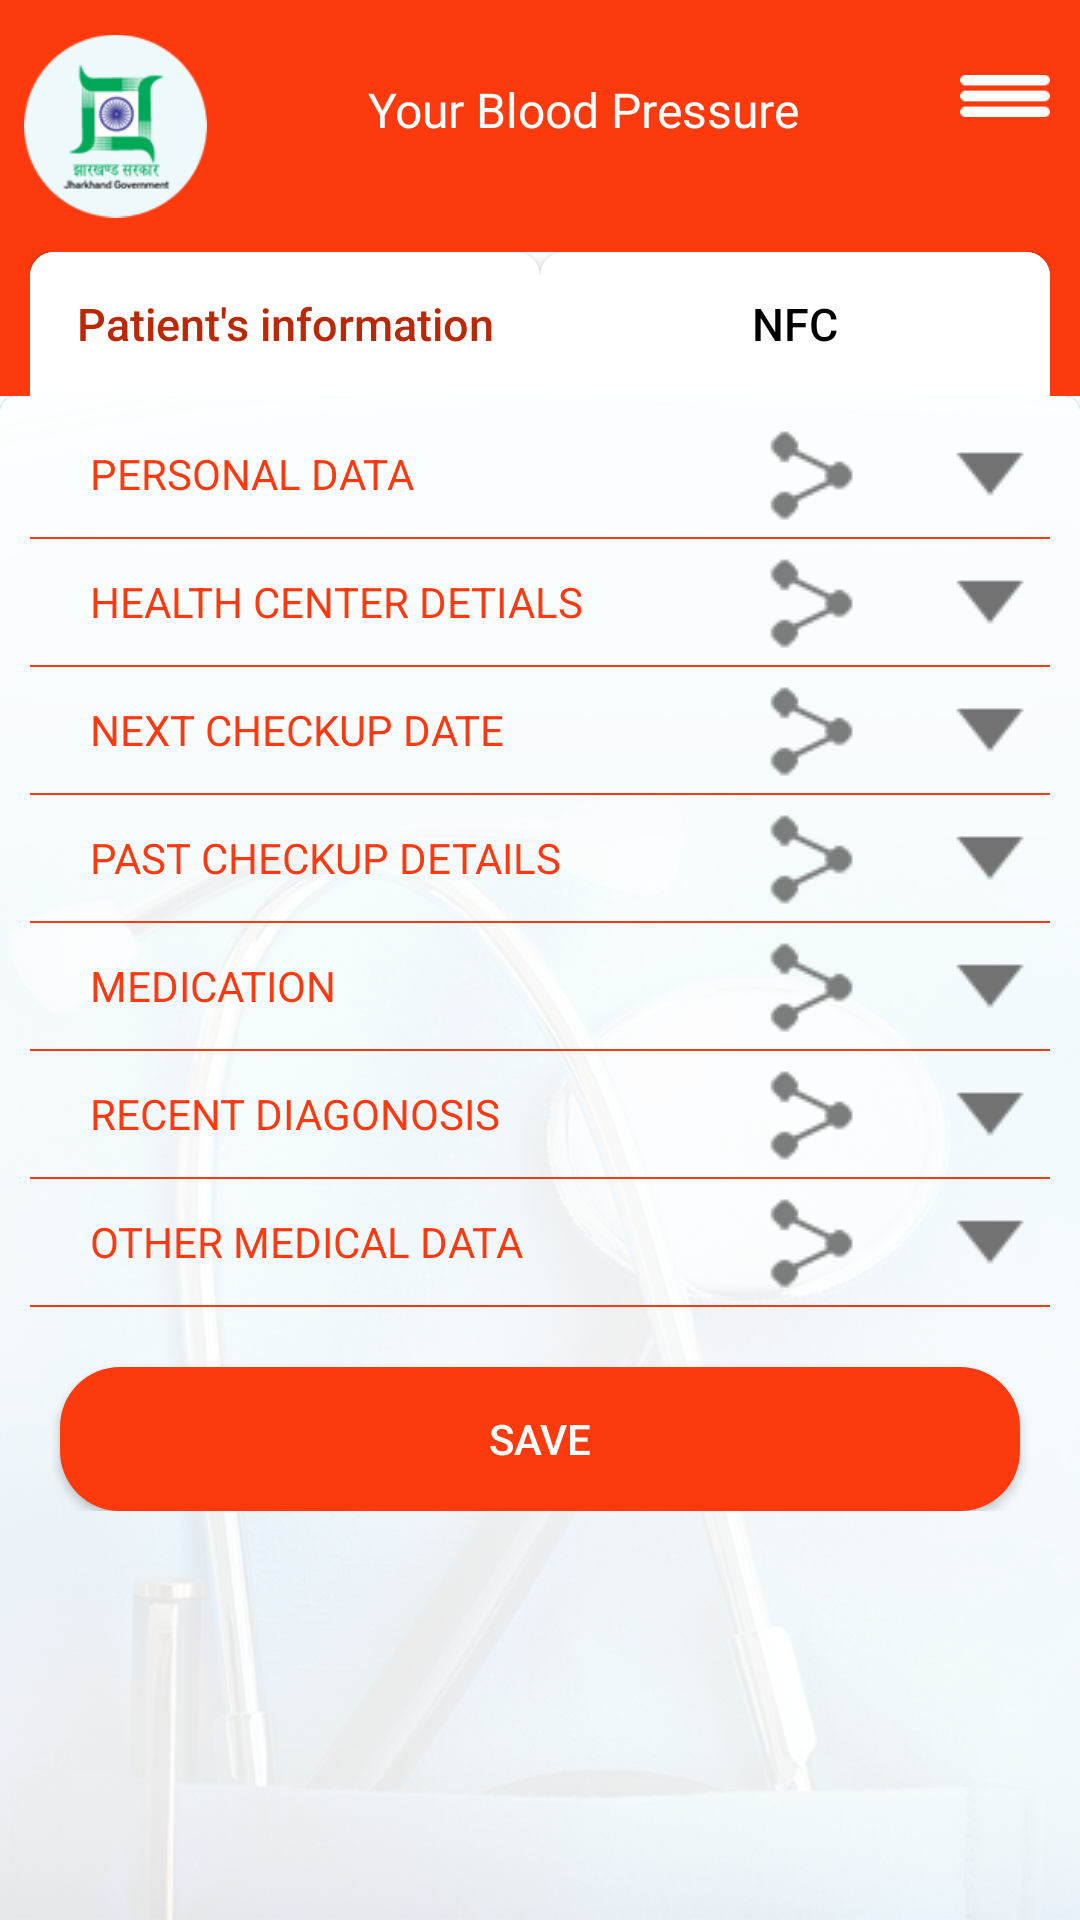

Named icons in this screenshot (1080w x 1920h) and their centers, [x,y]:
downarrow: [990,473], [990,601], [990,729], [990,857], [990,985], [990,1113], [990,1241]
menu: [1005,96]
share: [811,475], [811,603], [811,731], [811,859], [811,987], [811,1115], [811,1243]
